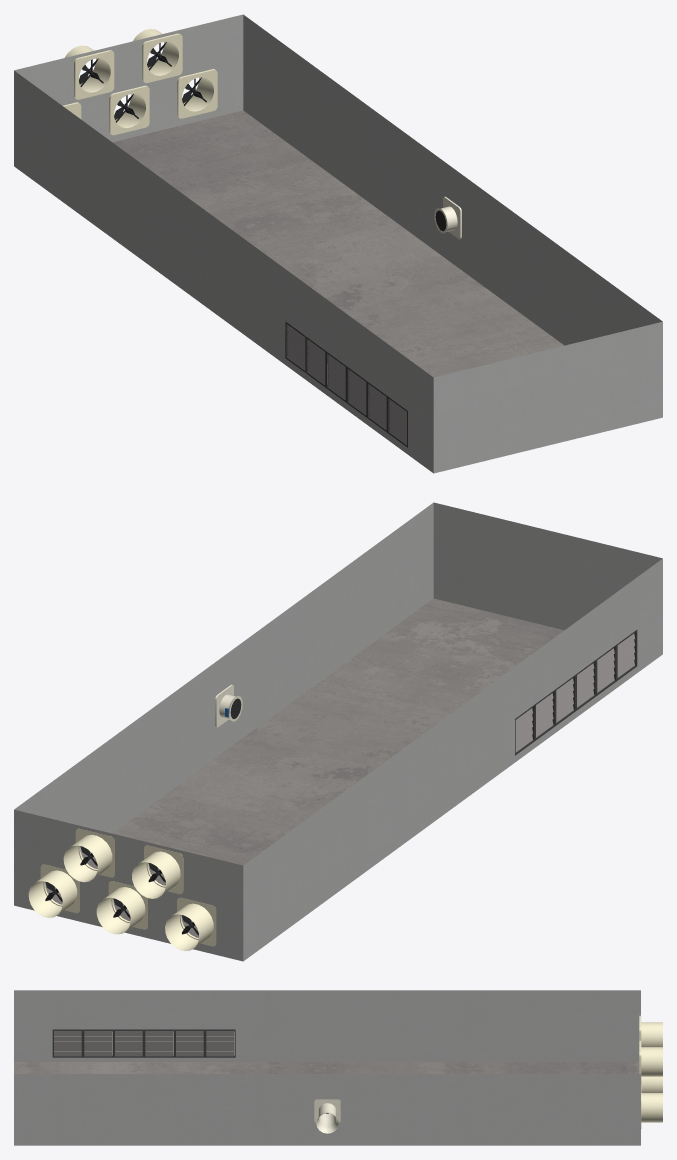
File: Building All.gltf
3 renders of one model, top to bottom at view 1: azimuth 30°, elevation 25°; view 2: azimuth 150°, elevation 25°; view 3: azimuth 270°, elevation 25°, orthographic. The views are drawn at different scales.
Visible parts, largest first — view 1: Floor, Wall_Left, Wall_Right, Wall_Font, Wall_Back, DA 17K System, BF55 Gable Fans_3, BF55 Gable Fans_4, BF55 Gable Fans_5, BF55 Gable Fans_1, DA 17K System_Plane, DA 820; view 2: Floor, Wall_Left, Wall_Right, Wall_Font, Wall_Back, DA 17K System, BF55 Gable Fans_3, BF55 Gable Fans_2, BF55 Gable Fans_4, BF55 Gable Fans_5, BF55 Gable Fans_1, DA 17K System_Plane (+1 smaller); view 3: Wall_Right, Wall_Left, Floor, DA 17K System, DA 820, DA 17K System_Plane, BF55 Gable Fans_4, BF55 Gable Fans_1, BF55 Gable Fans_3, BF55 Gable Fans_5.
Part boxes in pixels (bbox=[...]): Floor: bbox=[113, 110, 563, 377]; Wall_Left: bbox=[14, 70, 433, 473]; Wall_Right: bbox=[243, 14, 662, 345]; Wall_Font: bbox=[433, 321, 662, 473]; Wall_Back: bbox=[14, 14, 243, 142]; DA 17K System: bbox=[285, 321, 407, 447]; BF55 Gable Fans_3: bbox=[65, 45, 114, 99]; BF55 Gable Fans_4: bbox=[133, 28, 182, 83]; BF55 Gable Fans_5: bbox=[109, 85, 149, 135]; BF55 Gable Fans_1: bbox=[177, 69, 217, 118]; DA 17K System_Plane: bbox=[287, 325, 406, 417]; DA 820: bbox=[434, 196, 461, 239]; Floor: bbox=[45, 598, 563, 937]; Wall_Left: bbox=[243, 558, 662, 961]; Wall_Right: bbox=[14, 502, 433, 855]; Wall_Font: bbox=[433, 502, 662, 630]; Wall_Back: bbox=[14, 809, 243, 961]; DA 17K System: bbox=[515, 630, 637, 755]; BF55 Gable Fans_3: bbox=[132, 845, 183, 898]; BF55 Gable Fans_2: bbox=[165, 897, 216, 950]; BF55 Gable Fans_4: bbox=[63, 828, 114, 882]; BF55 Gable Fans_5: bbox=[96, 881, 147, 934]; BF55 Gable Fans_1: bbox=[28, 864, 79, 917]; DA 17K System_Plane: bbox=[515, 633, 635, 725]; Wall_Right: bbox=[14, 1074, 640, 1145]; Wall_Left: bbox=[14, 990, 640, 1061]; Floor: bbox=[14, 1062, 639, 1073]; DA 17K System: bbox=[52, 1029, 235, 1057]; DA 820: bbox=[314, 1099, 340, 1133]; DA 17K System_Plane: bbox=[54, 1031, 233, 1035]; BF55 Gable Fans_4: bbox=[639, 1040, 662, 1082]; BF55 Gable Fans_1: bbox=[641, 1086, 662, 1128]; BF55 Gable Fans_3: bbox=[639, 1015, 662, 1046]; BF55 Gable Fans_5: bbox=[641, 1076, 662, 1092].
Bounding box in the file's own units: 91.75 × 32 × 262.
5 materials, 5 textured.
